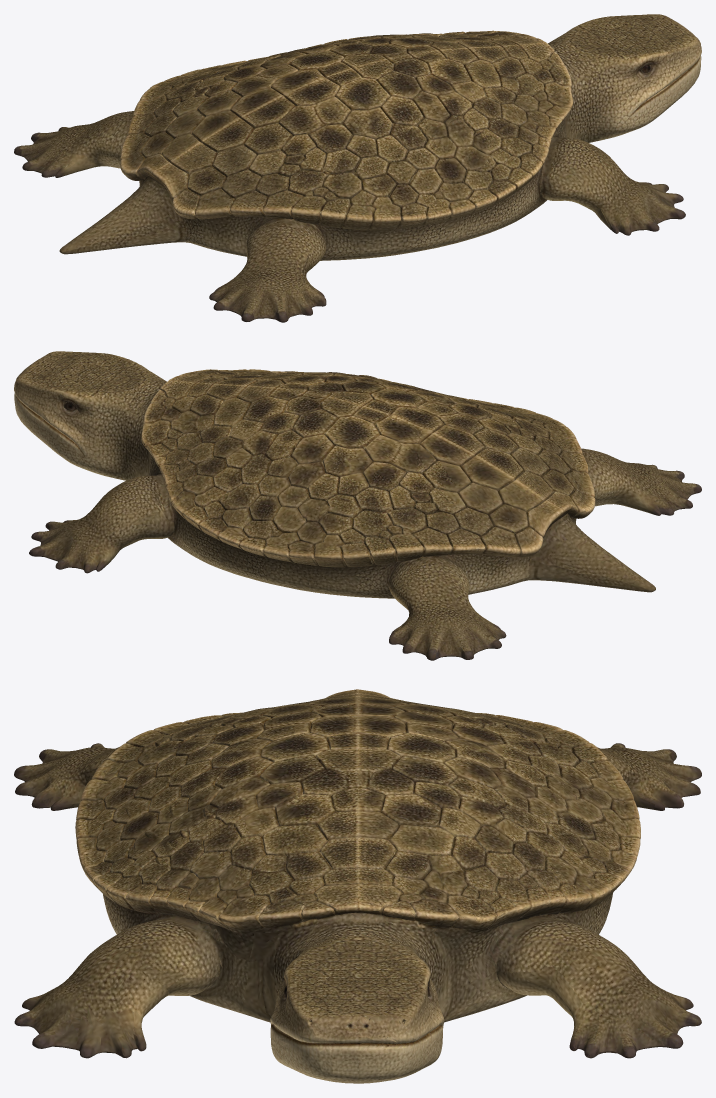
3 renders of one model, top to bottom at view 1: azimuth 30°, elevation 25°; view 2: azimuth 150°, elevation 25°; view 3: azimuth 270°, elevation 25°, orthographic. The views are drawn at different scales.
Parts seen in each view (by area): view 1: Authored orientation; view 2: Authored orientation; view 3: Authored orientation.
Part boxes in pixels (x1,y1,x2,y2): Authored orientation: (14, 14, 701, 322); Authored orientation: (14, 351, 701, 660); Authored orientation: (14, 689, 701, 1083).
Bounding box in the file's own units: 1.08 × 0.1908 × 0.7495.
1 material, 1 textured.
